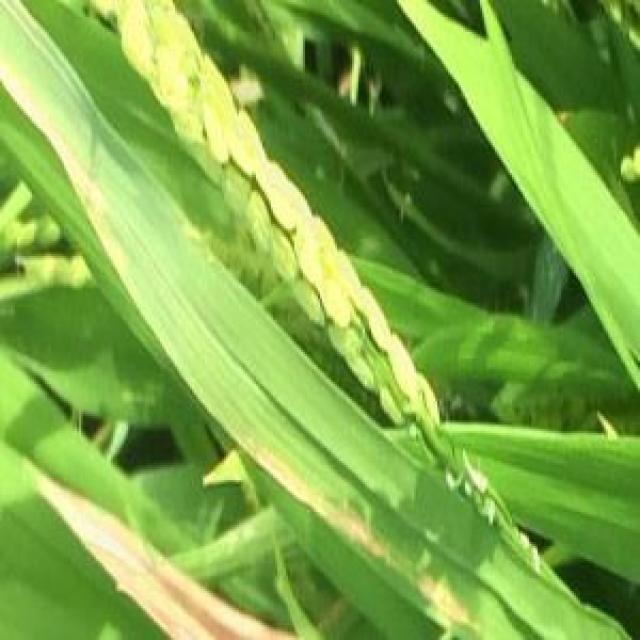Bacterial_Blight: (35, 469, 299, 640), (0, 66, 131, 256), (246, 430, 399, 570), (416, 576, 478, 629)
